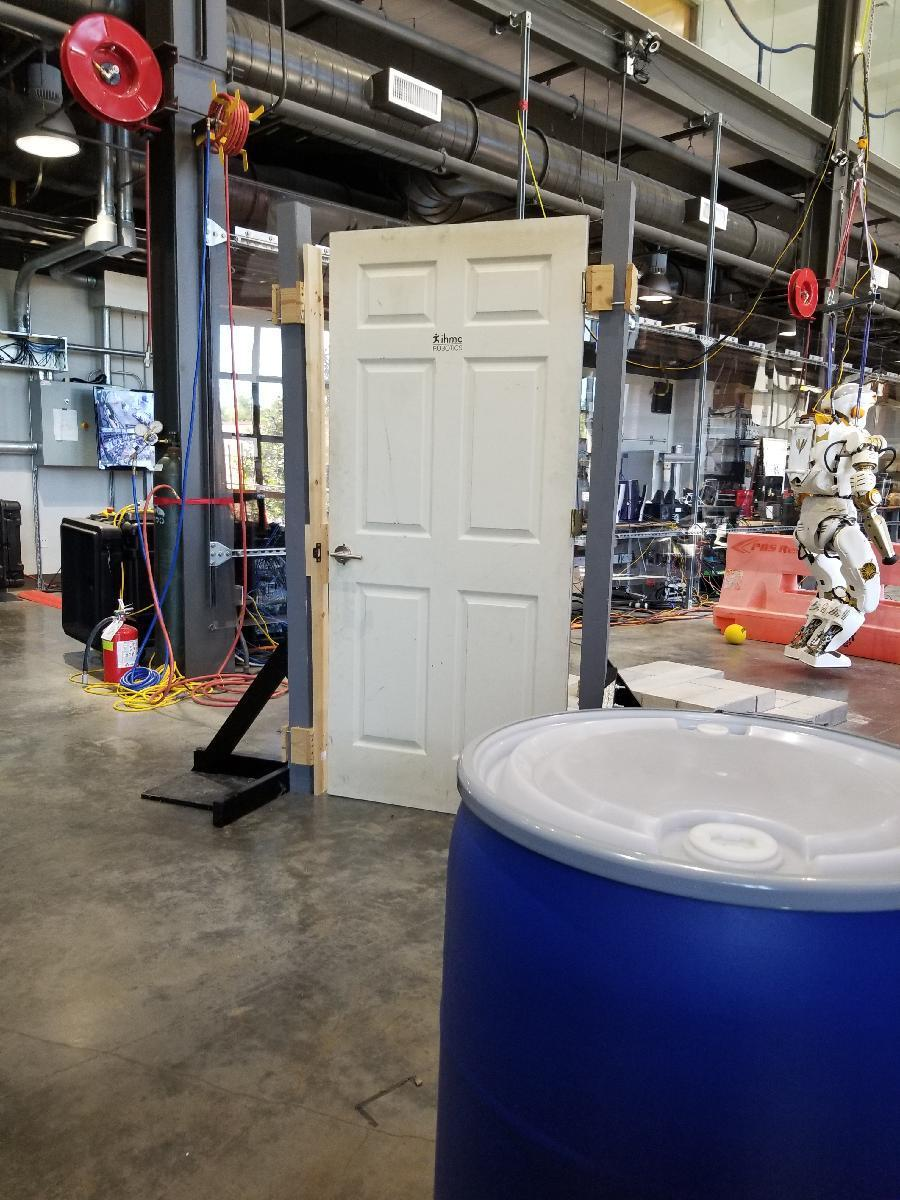door: (326, 223, 574, 813)
handle: (328, 544, 366, 566)
